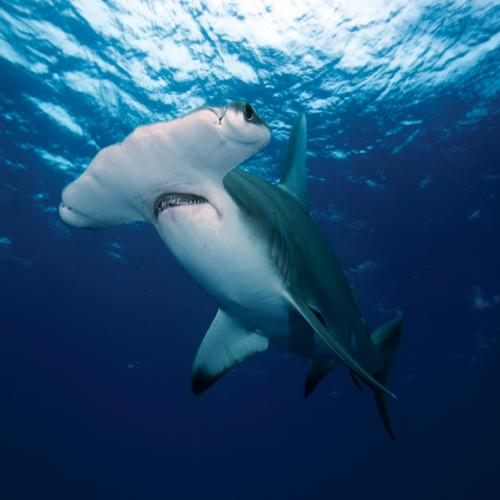shark-endangered: (59, 100, 406, 446)
